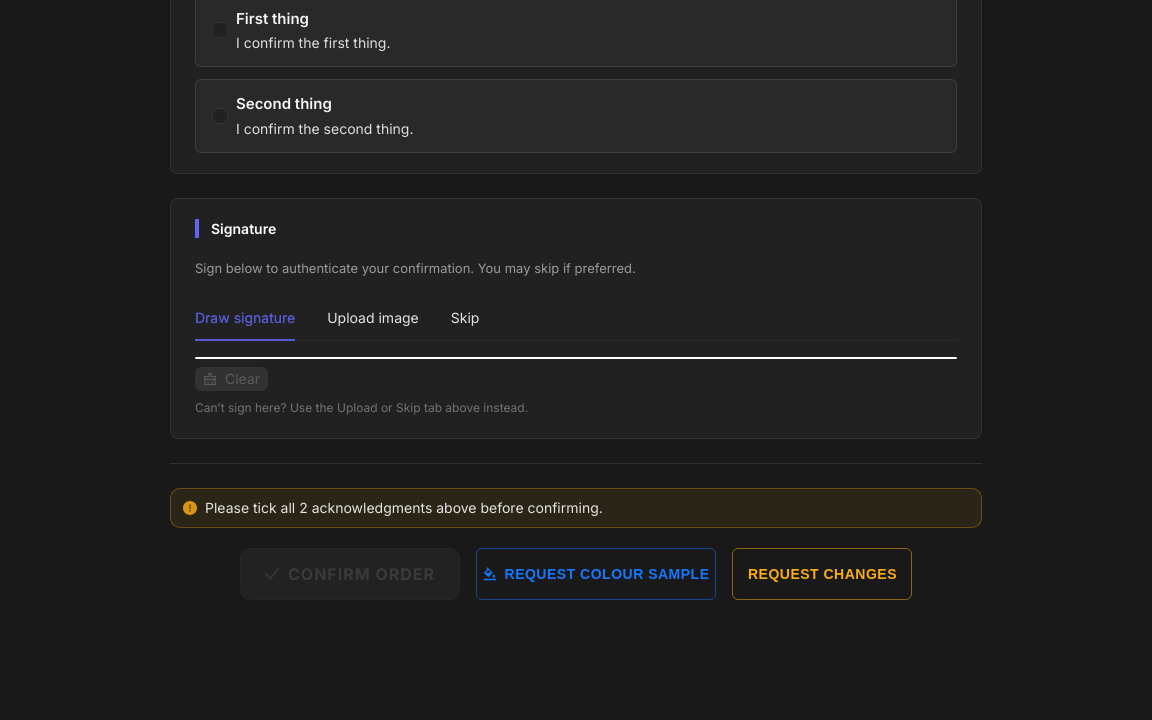
Scenario: CustomerOrderView › disables the Submit Request button until a comment is entered
The image size is (1152, 720).
(page scrolled)
Click the button "Request Changes" at (822, 574), box [732, 548, 912, 600]
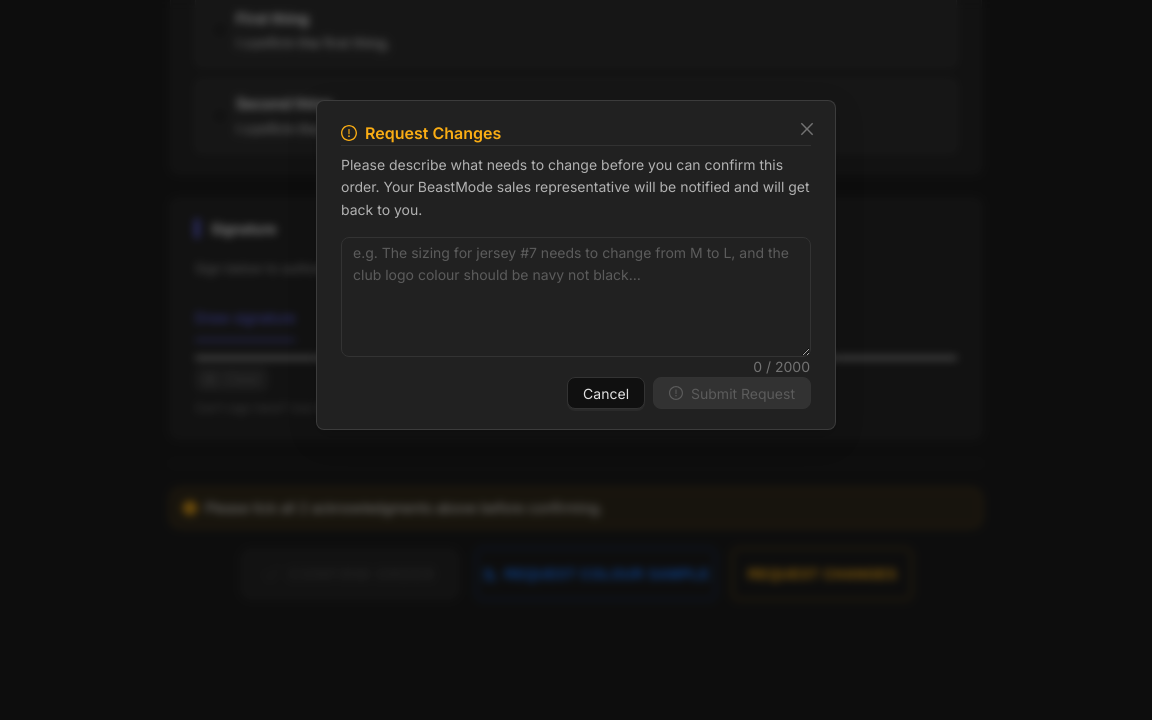
Now the button "Submit Request" is disabled, box [653, 377, 811, 409]
